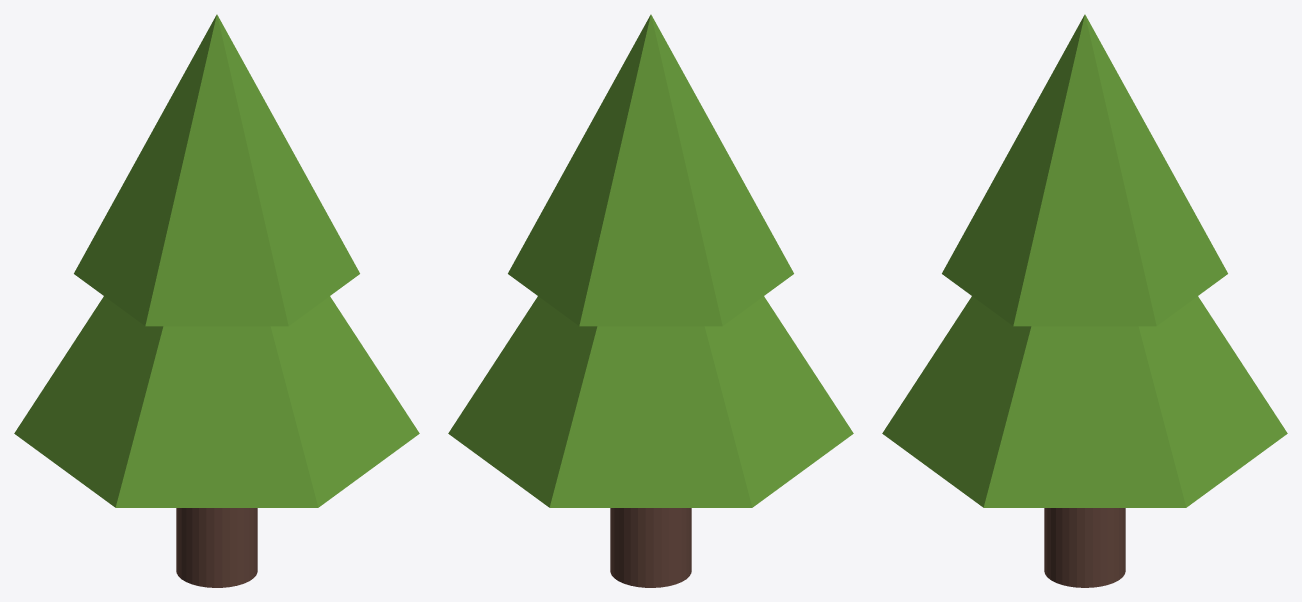
The model's file is tree2v2.fbx.
3 renders of one model, left to right at view 1: azimuth 30°, elevation 25°; view 2: azimuth 150°, elevation 25°; view 3: azimuth 270°, elevation 25°, orthographic.
Parts seen in each view (by area): view 1: Cone.003; view 2: Cone.003; view 3: Cone.003.
Boxes of the visible parts, bbox=[...] form: Cone.003: bbox=[14, 14, 419, 587]; Cone.003: bbox=[448, 14, 853, 587]; Cone.003: bbox=[882, 14, 1287, 587].
Bounding box in the file's own units: 3.74 × 6.54 × 4.32.
